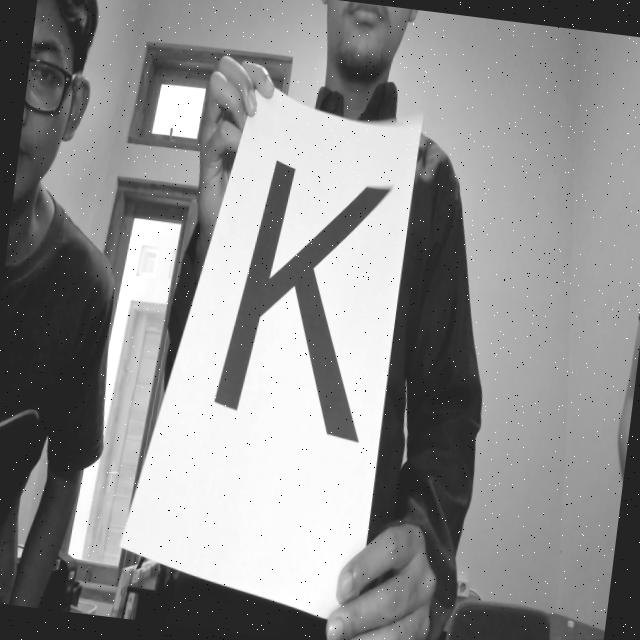k: (186, 112, 408, 483)
